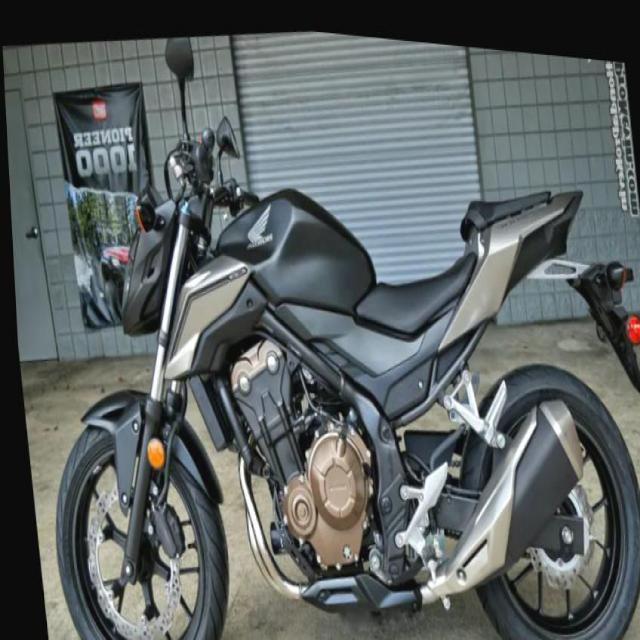CB500F: (14, 109, 639, 639)
